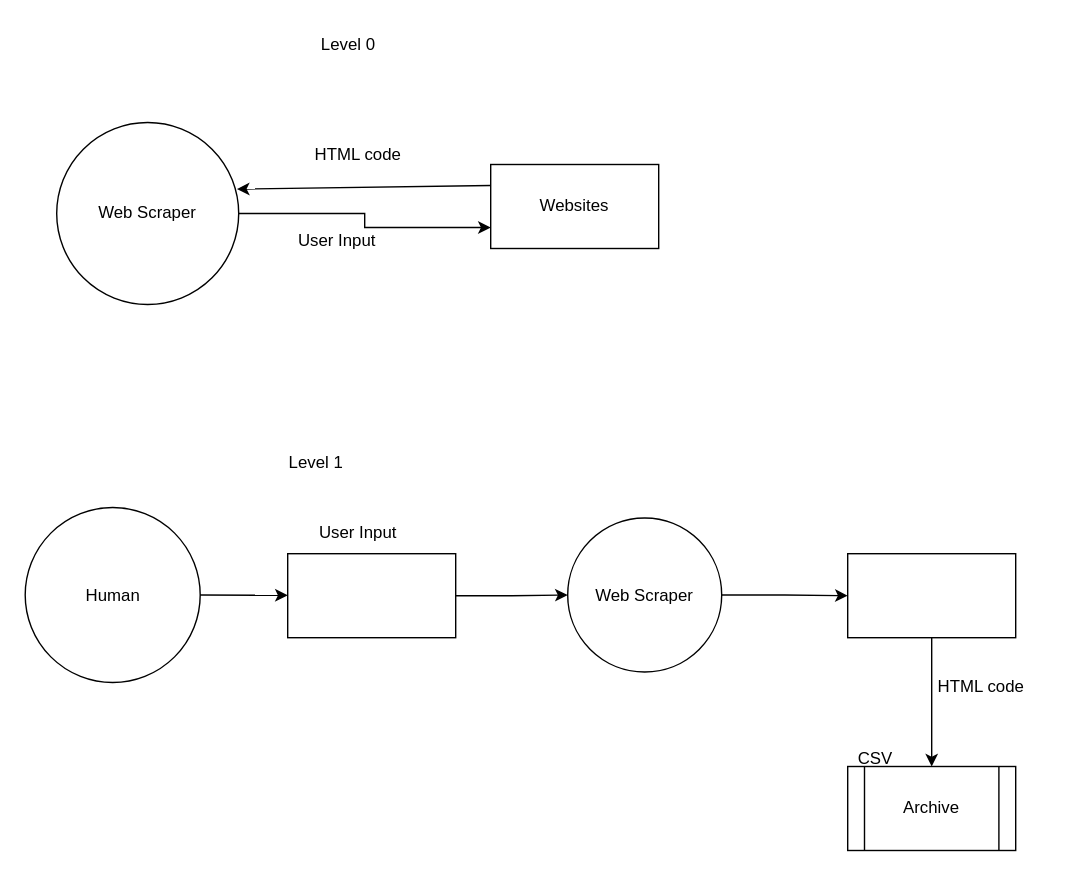
Some shapes in this 1067 by 875 pixel diagram are drawn without their labels. The box of each missing label's shape, as (x1, y1, x2, y2) in pixels:
Search data: (846, 552, 1016, 638)
website name: (286, 552, 456, 638)
